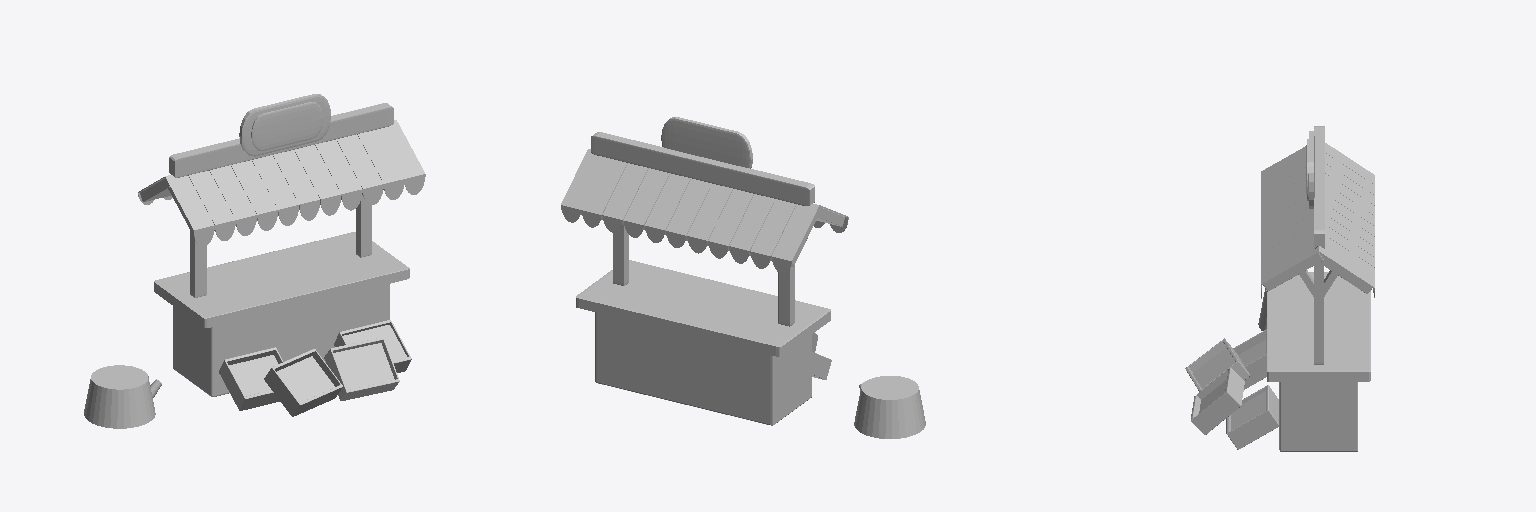
File: festiwal_budka.obj
3 views of the same model, side by side, from view 1: azimuth 30°, elevation 25°; view 2: azimuth 150°, elevation 25°; view 3: azimuth 270°, elevation 25° (orthographic).
Visible parts, largest first — view 1: Cube.001, Cube, Cylinder.004, Cube.007, Cube.020, pokrzywa_pudlo.001, Cube.025, Circle, Cube.010, Circle.001, Circle.005, Circle.004 (+15 smaller); view 2: Cube, Cube.001, Cube.007, Cylinder.004, Cube.010, Circle, Circle.001, Circle.004, Circle.002, Circle.003, Circle.008, Circle.006 (+6 smaller); view 3: Cube.001, Cube, Cube.018, Cube.017, Cube.007, Circle.010, Circle.008, Circle.004, Circle.005, Circle.009, Cube.003, Circle.006 (+10 smaller).
Part boxes in pixels (bbox=[...]): Cube.001: bbox=[154, 232, 409, 327]; Cube: bbox=[173, 284, 389, 396]; Cylinder.004: bbox=[84, 365, 155, 428]; Cube.007: bbox=[169, 103, 393, 177]; Cube.020: bbox=[251, 102, 322, 150]; pokrzywa_pudlo.001: bbox=[333, 343, 394, 389]; Cube.025: bbox=[264, 349, 342, 416]; Circle: bbox=[138, 175, 214, 246]; Cube.010: bbox=[239, 94, 330, 156]; Circle.001: bbox=[164, 171, 235, 240]; Circle.005: bbox=[294, 145, 341, 215]; Circle.004: bbox=[315, 140, 362, 210]; Cube: bbox=[595, 312, 811, 425]; Cube.001: bbox=[576, 260, 830, 356]; Cube.007: bbox=[591, 132, 814, 205]; Cylinder.004: bbox=[854, 376, 925, 438]; Cube.010: bbox=[661, 117, 752, 168]; Circle: bbox=[771, 204, 848, 273]; Circle.001: bbox=[750, 199, 824, 268]; Circle.004: bbox=[624, 168, 669, 237]; Circle.002: bbox=[729, 194, 774, 263]; Circle.003: bbox=[708, 189, 753, 258]; Circle.008: bbox=[602, 163, 648, 232]; Circle.006: bbox=[666, 178, 711, 247]; Cube.001: bbox=[1267, 272, 1370, 381]; Cube: bbox=[1279, 382, 1357, 451]; Cube.018: bbox=[1191, 367, 1244, 434]; Cube.017: bbox=[1226, 385, 1278, 449]; Cube.007: bbox=[1314, 126, 1324, 248]; Circle.010: bbox=[1261, 245, 1374, 298]; Circle.008: bbox=[1261, 224, 1374, 267]; Circle.004: bbox=[1261, 214, 1374, 256]; Circle.005: bbox=[1261, 204, 1374, 246]; Circle.009: bbox=[1261, 235, 1374, 277]; Cube.003: bbox=[1314, 263, 1323, 364]; Circle.006: bbox=[1261, 194, 1374, 236].
Size of the model in its own units: 7.43 by 5.82 by 3.8.